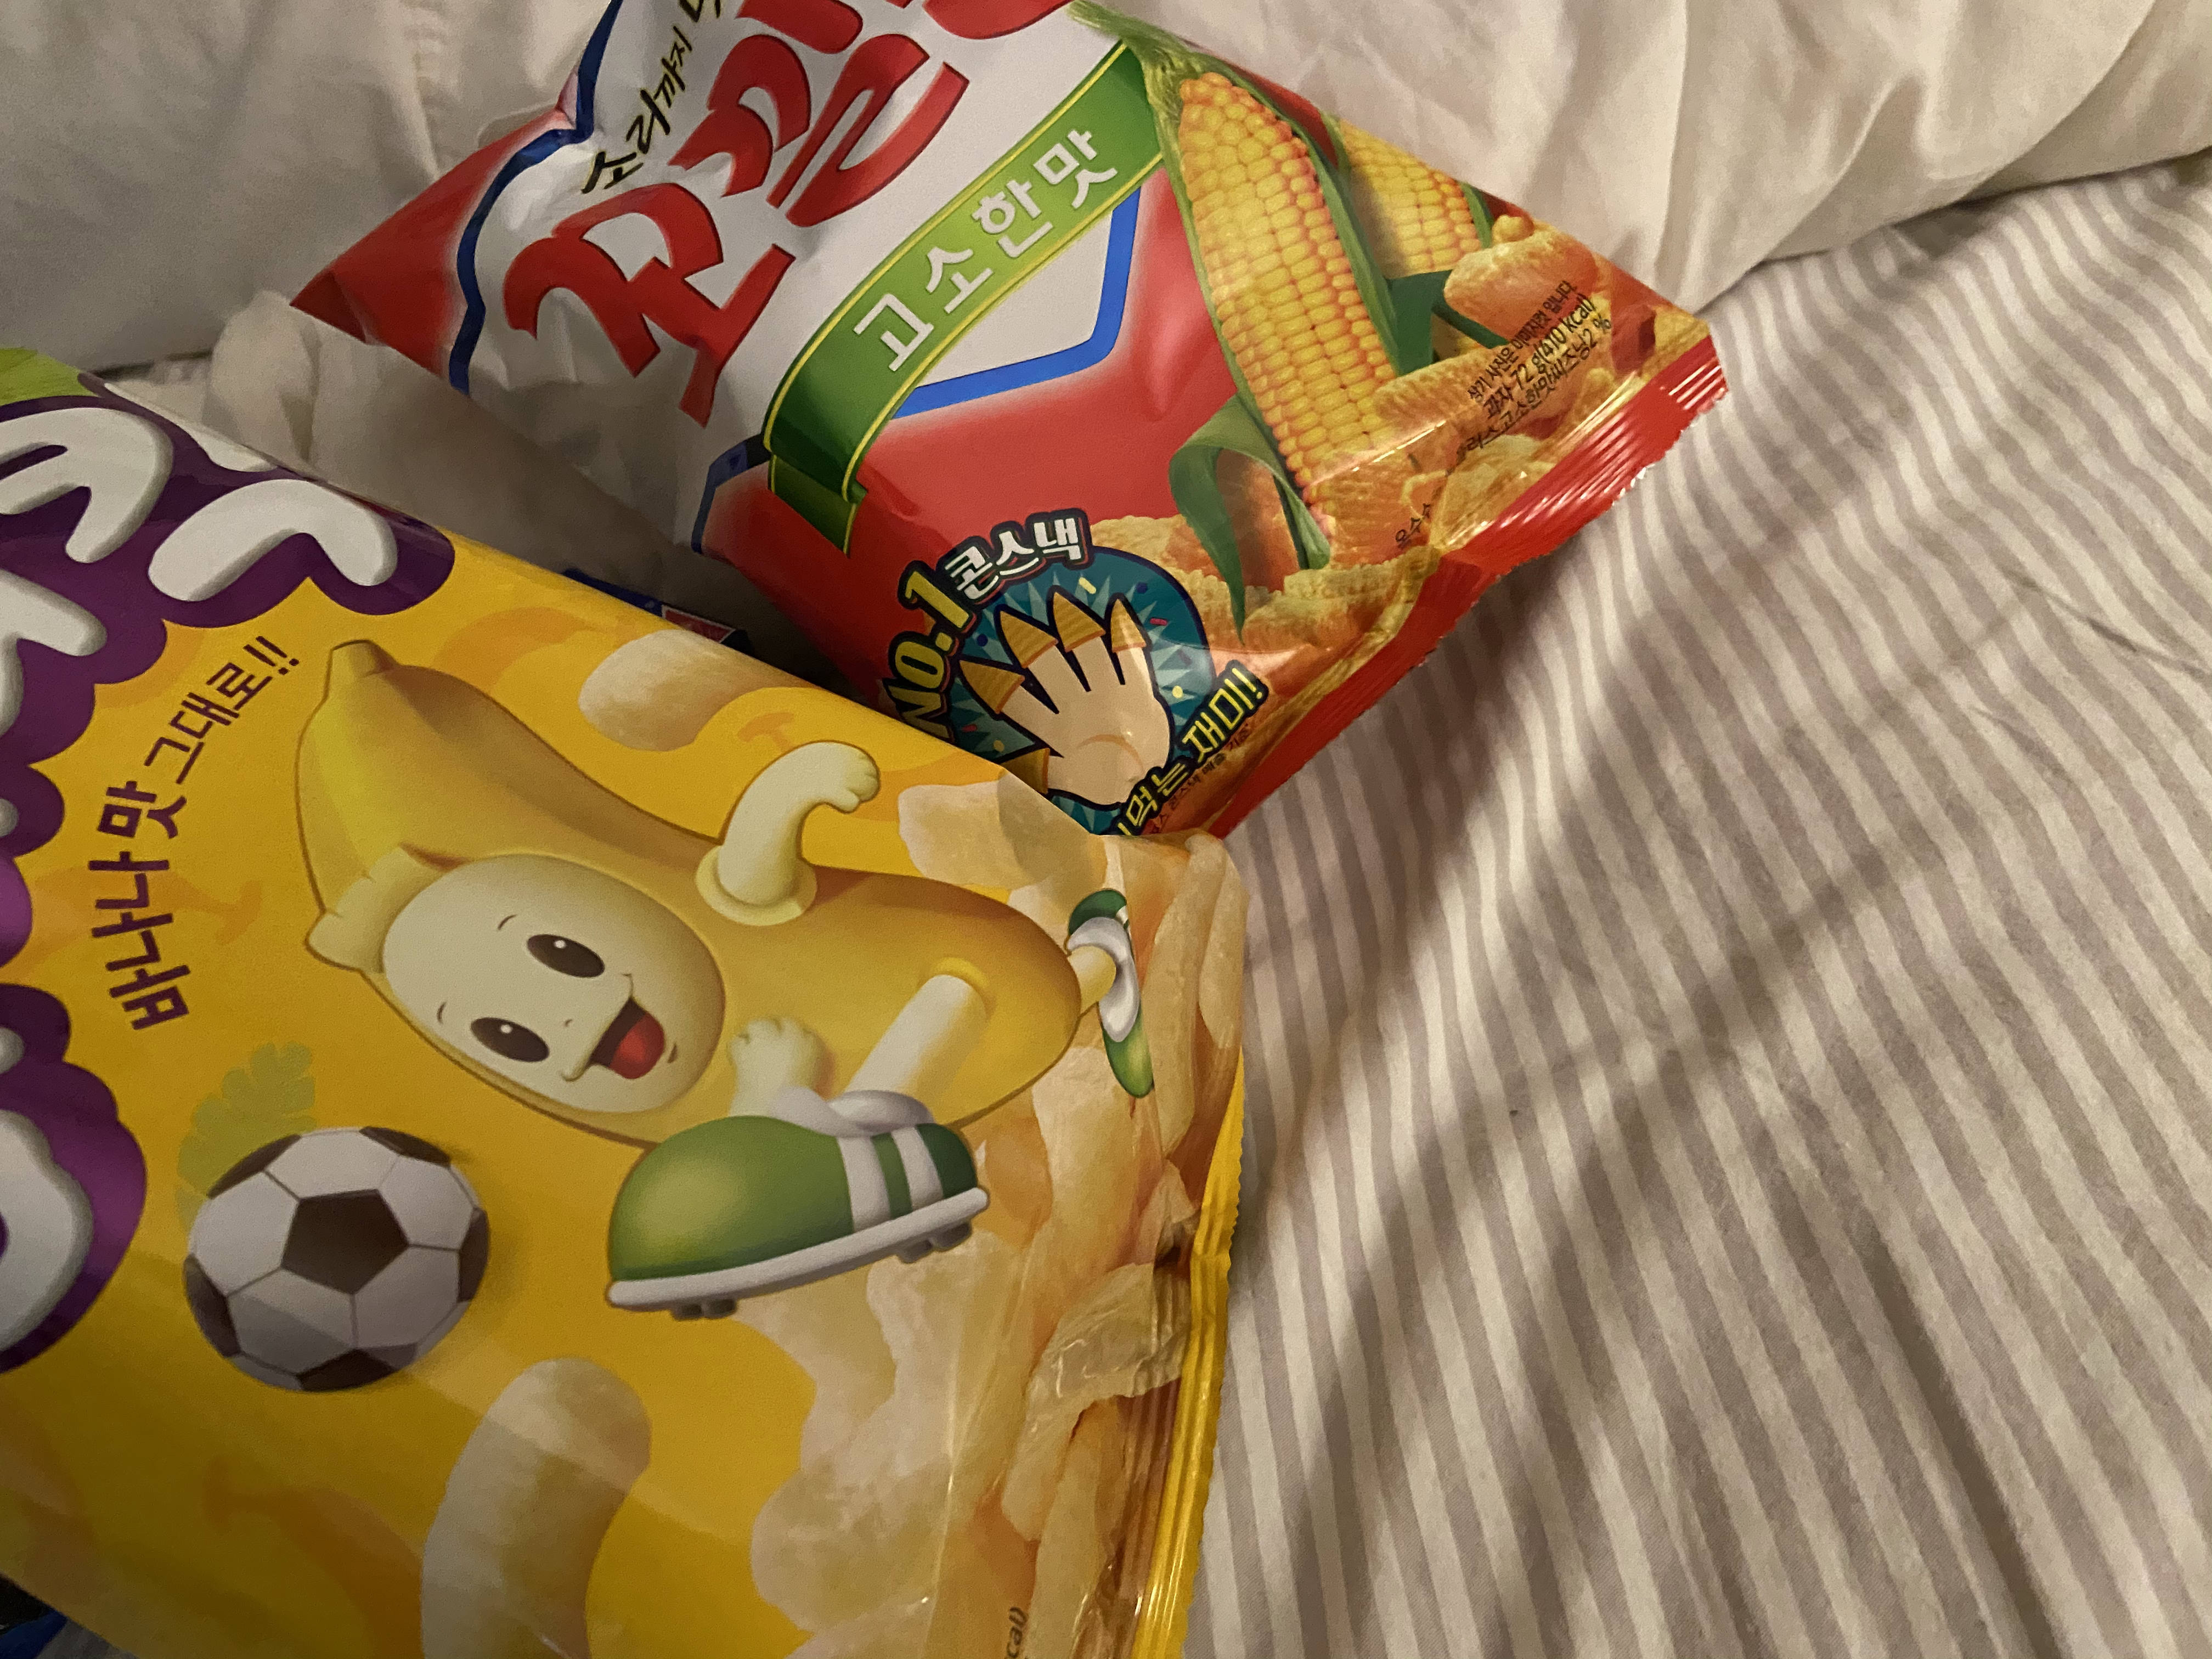banana: (0, 329, 1458, 1656)
ggoggalcon: (265, 0, 1745, 904)
